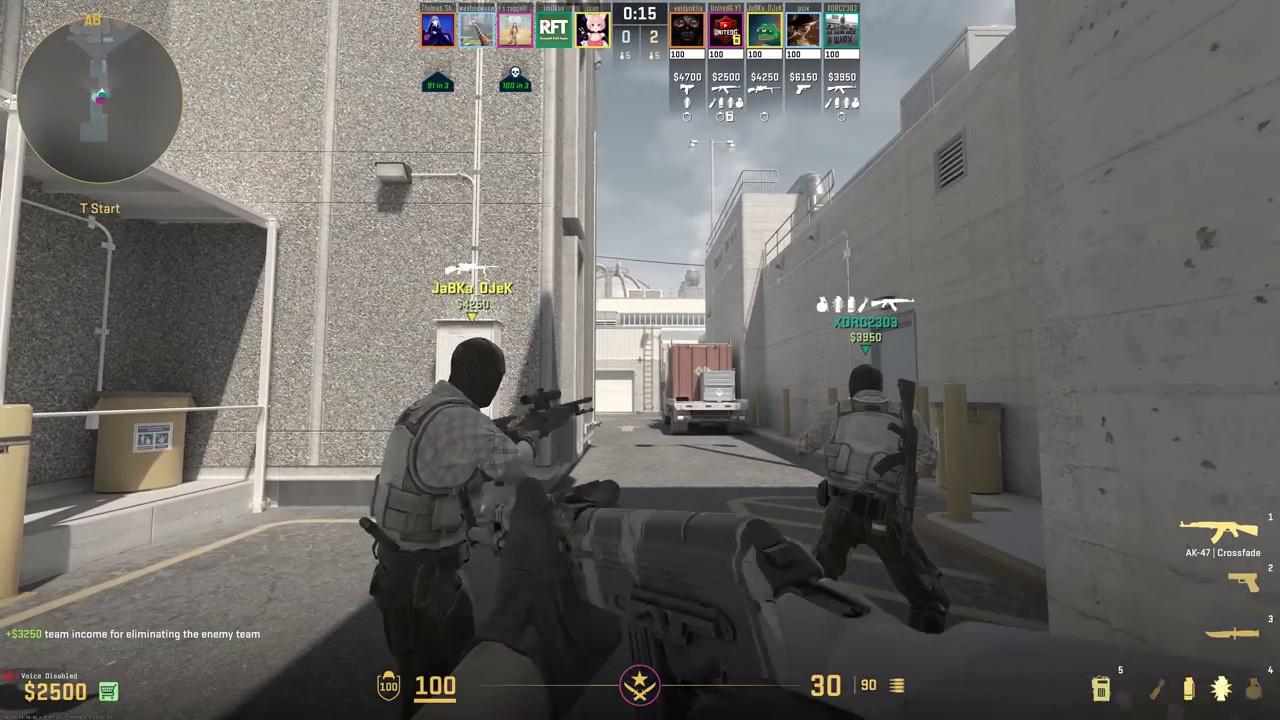Terrorist: (371, 336, 517, 688), (811, 366, 944, 633)
